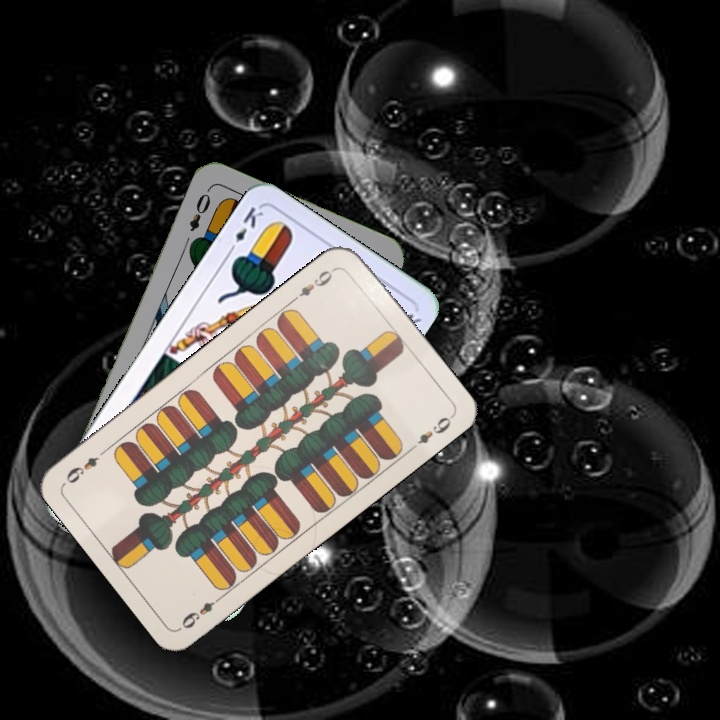E9: (288, 263, 339, 305), (177, 590, 227, 631)
EK: (223, 202, 266, 257)
EO: (185, 184, 213, 234)
